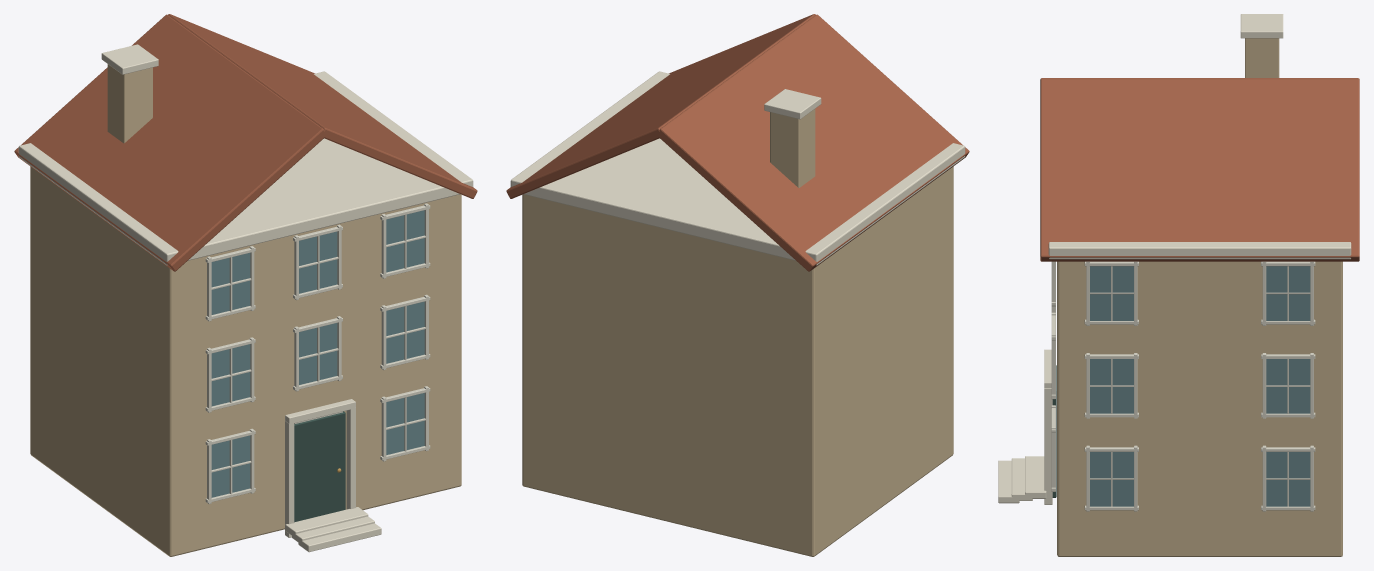
File: Building_Townhouse_Detailed_01.fbx
3 renders of one model, left to right at view 1: azimuth 30°, elevation 25°; view 2: azimuth 150°, elevation 25°; view 3: azimuth 270°, elevation 25°, orthographic.
Parts seen in each view (by area): view 1: Building_Townhouse_Detailed_01_OPT_Merged_ENV_Townhouse_Ochr, Building_Townhouse_Detailed_01_OPT_Merged_ENV_Townhouse_Terr, Building_Townhouse_Detailed_01_OPT_Merged_ENV_Townhouse_Corn, Building_Townhouse_Detailed_01_OPT_Merged_ENV_Window_Histori, Building_Townhouse_Detailed_01_OPT_Merged_ENV_Window_Painted, Building_Townhouse_Detailed_01_Door_OPT; view 2: Building_Townhouse_Detailed_01_OPT_Merged_ENV_Townhouse_Ochr, Building_Townhouse_Detailed_01_OPT_Merged_ENV_Townhouse_Terr, Building_Townhouse_Detailed_01_OPT_Merged_ENV_Townhouse_Corn; view 3: Building_Townhouse_Detailed_01_OPT_Merged_ENV_Townhouse_Ochr, Building_Townhouse_Detailed_01_OPT_Merged_ENV_Townhouse_Terr, Building_Townhouse_Detailed_01_OPT_Merged_ENV_Window_Histori, Building_Townhouse_Detailed_01_OPT_Merged_ENV_Townhouse_Corn, Building_Townhouse_Detailed_01_OPT_Merged_ENV_Window_Painted.
Boxes of the visible parts, bbox=[...] form: Building_Townhouse_Detailed_01_OPT_Merged_ENV_Townhouse_Ochr: bbox=[30, 64, 461, 556]; Building_Townhouse_Detailed_01_OPT_Merged_ENV_Townhouse_Terr: bbox=[14, 14, 477, 271]; Building_Townhouse_Detailed_01_OPT_Merged_ENV_Townhouse_Corn: bbox=[18, 44, 473, 552]; Building_Townhouse_Detailed_01_OPT_Merged_ENV_Window_Histori: bbox=[211, 210, 424, 497]; Building_Townhouse_Detailed_01_OPT_Merged_ENV_Window_Painted: bbox=[205, 203, 430, 503]; Building_Townhouse_Detailed_01_Door_OPT: bbox=[294, 411, 345, 522]; Building_Townhouse_Detailed_01_OPT_Merged_ENV_Townhouse_Ochr: bbox=[522, 109, 953, 556]; Building_Townhouse_Detailed_01_OPT_Merged_ENV_Townhouse_Terr: bbox=[506, 14, 969, 271]; Building_Townhouse_Detailed_01_OPT_Merged_ENV_Townhouse_Corn: bbox=[510, 71, 965, 265]; Building_Townhouse_Detailed_01_OPT_Merged_ENV_Townhouse_Ochr: bbox=[1057, 38, 1342, 556]; Building_Townhouse_Detailed_01_OPT_Merged_ENV_Townhouse_Terr: bbox=[1040, 78, 1359, 261]; Building_Townhouse_Detailed_01_OPT_Merged_ENV_Window_Histori: bbox=[1090, 266, 1310, 506]; Building_Townhouse_Detailed_01_OPT_Merged_ENV_Townhouse_Corn: bbox=[998, 14, 1351, 504]; Building_Townhouse_Detailed_01_OPT_Merged_ENV_Window_Painted: bbox=[1051, 261, 1315, 511].
Size of the model in its own units: 757 by 980 by 759.
